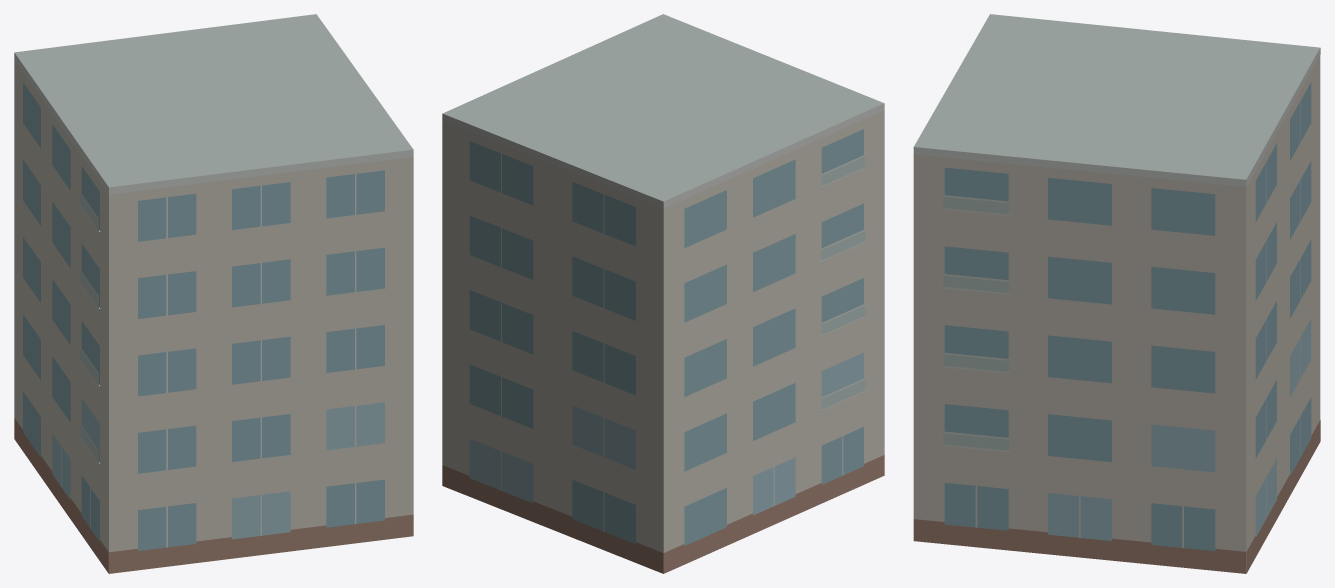
File: survey-upis-32872324.glb
The picture shows the model from 3 angles, left to right: view 1: azimuth 30°, elevation 25°; view 2: azimuth 150°, elevation 25°; view 3: azimuth 270°, elevation 25°; orthographic projection. The views are drawn at different scales.
Parts seen in each view (by area): view 1: survey-upis-32872324.tmp; view 2: survey-upis-32872324.tmp; view 3: survey-upis-32872324.tmp.
Boxes of the visible parts, box(x1,y1,x2,y2) form: survey-upis-32872324.tmp: box(14, 14, 413, 573); survey-upis-32872324.tmp: box(442, 14, 884, 573); survey-upis-32872324.tmp: box(913, 14, 1320, 573).
Bounding box in the file's own units: 11.83 × 13.1 × 12.26.
